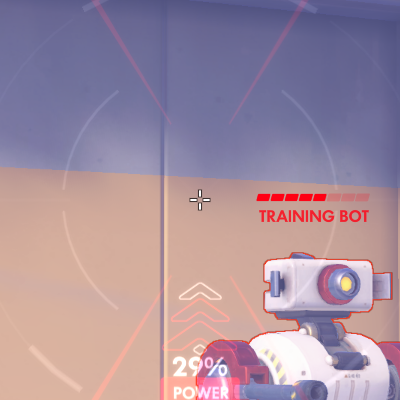hpbar: (255, 193, 370, 202)
